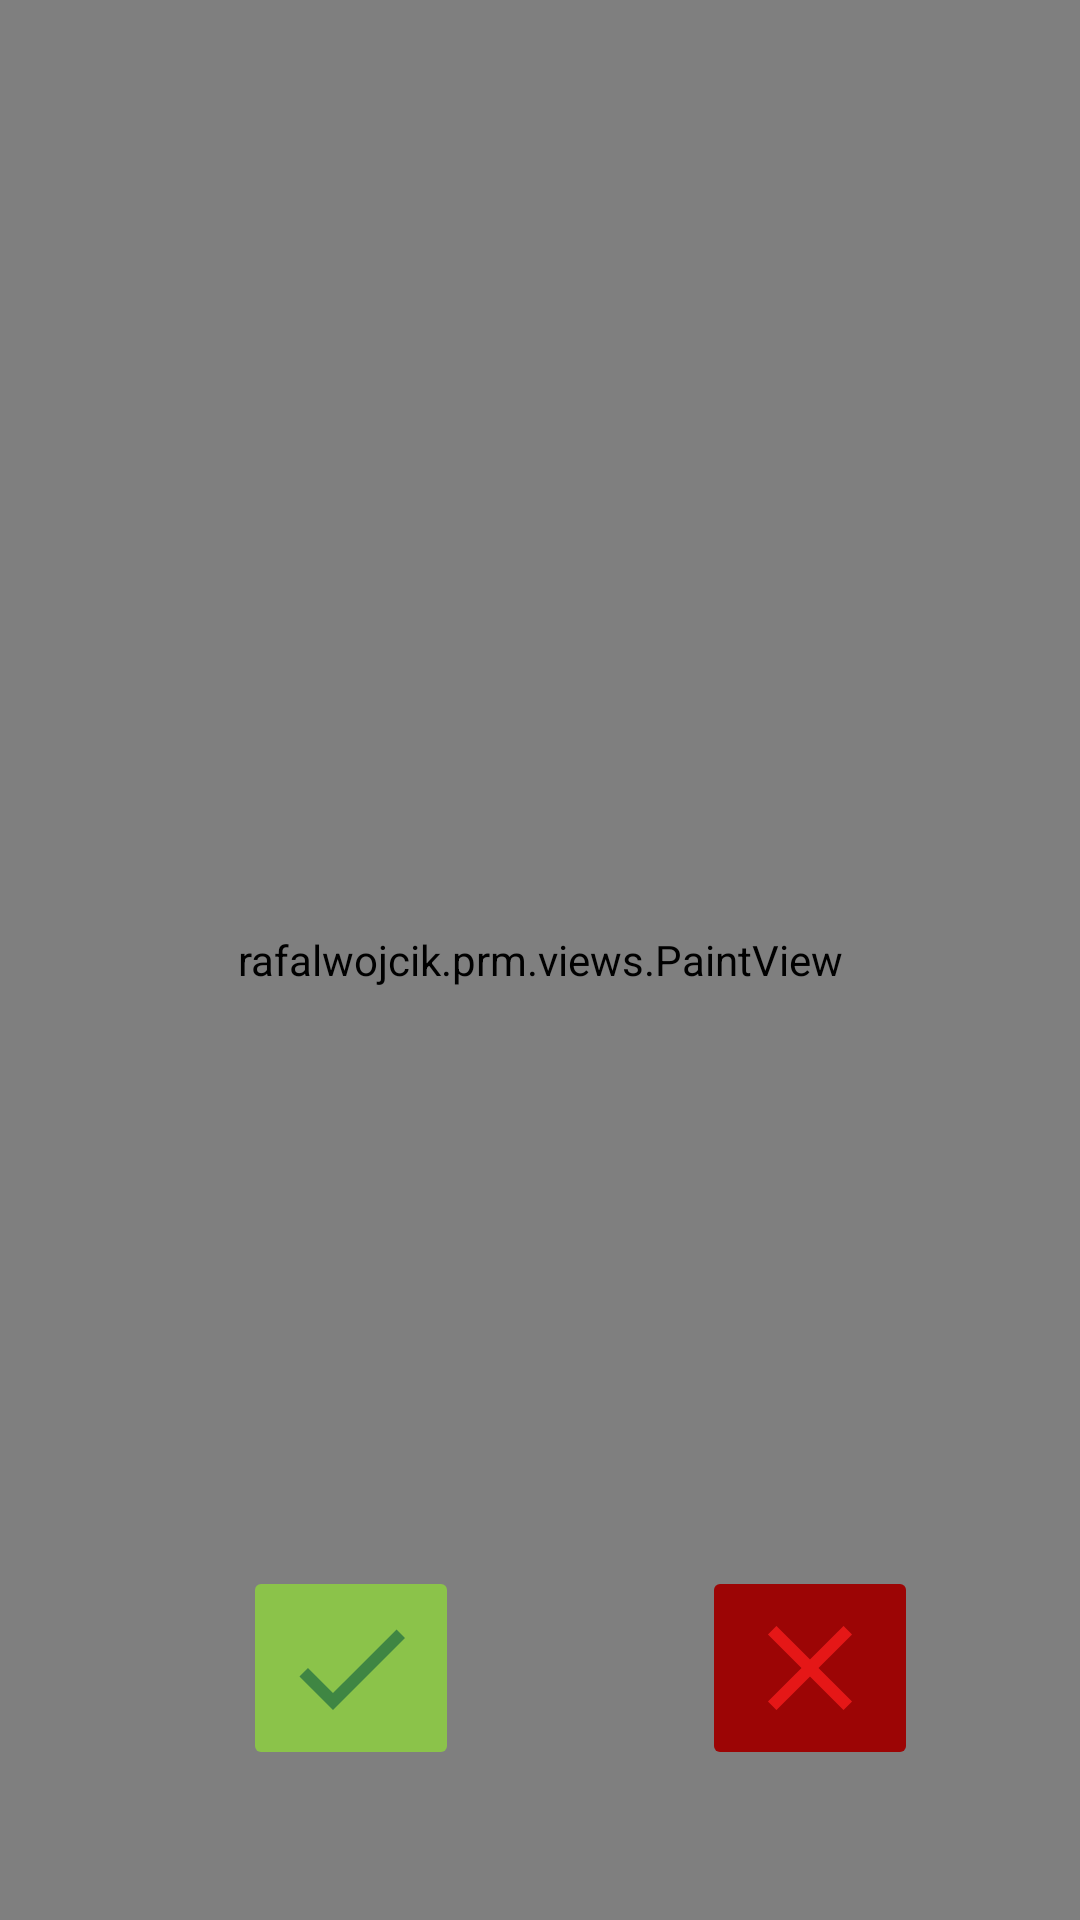

Screen size 1080 x 1920. Icon name, then its box in pixels as (x1, y1, x2, y2):
check: (255, 1584, 447, 1752)
close: (714, 1584, 906, 1752)
